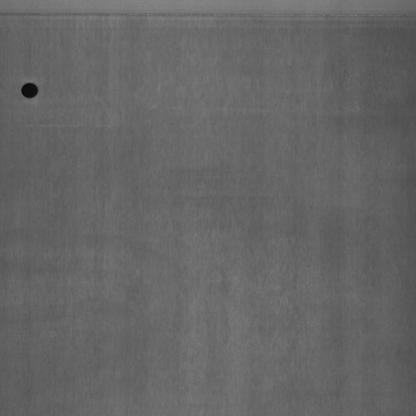punching_hole: (18, 79, 41, 102)
welding_line: (0, 1, 415, 29)
